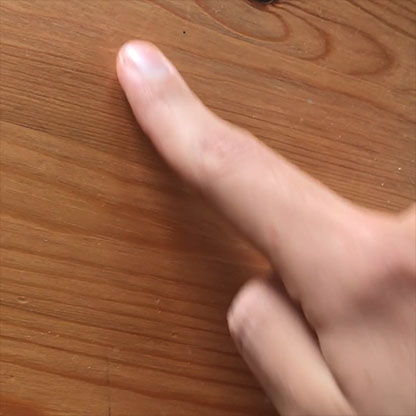fingertip: (105, 38, 193, 92)
